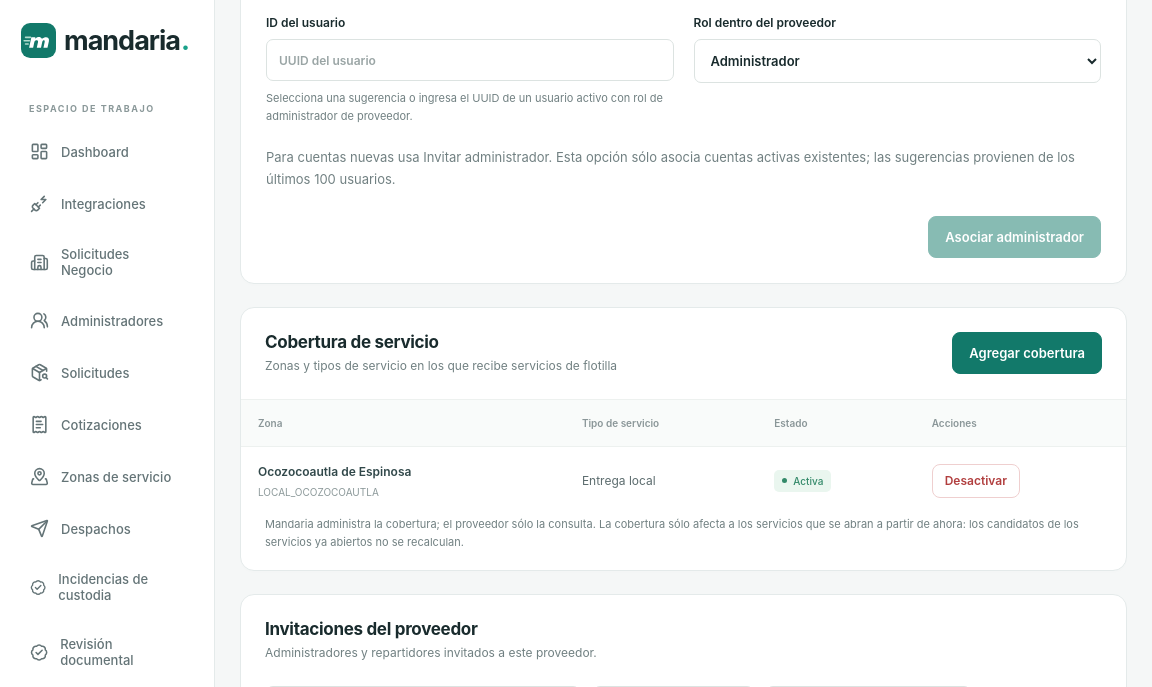
Test case: create, deactivate and reactivate › creates with the flat write shape and refetches from the backend
(page scrolled)
Click the button "Agregar cobertura": (1027, 353) [952,332,1102,374]
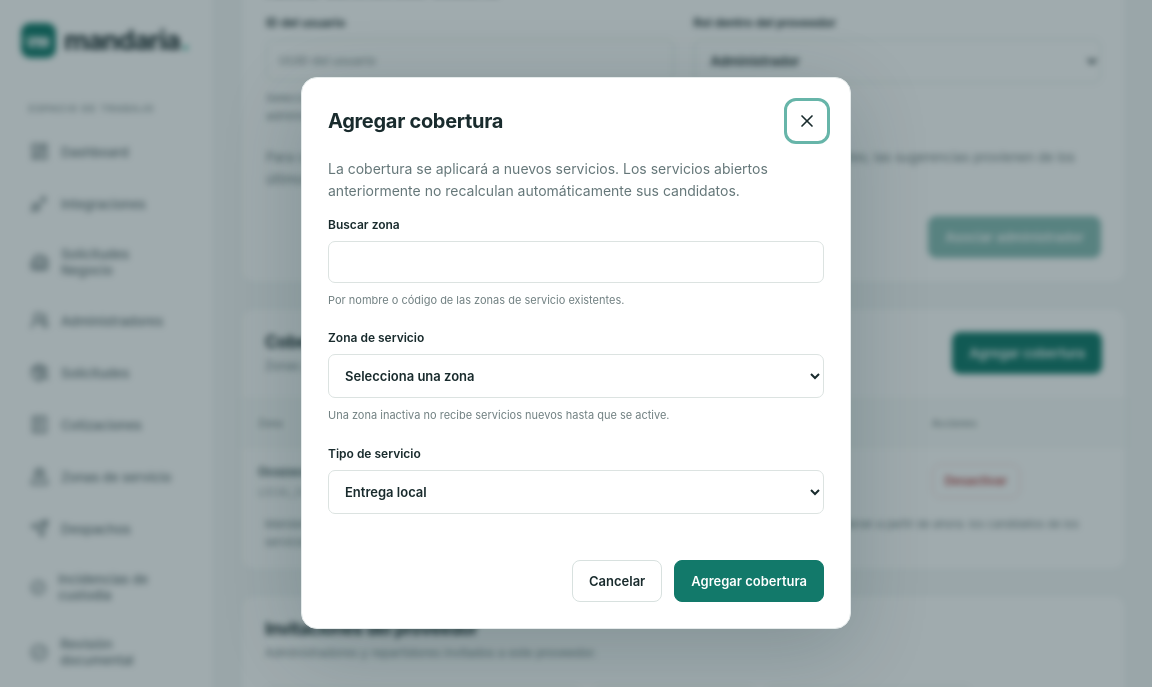
Select "Tuxtla Gutiérrez" in the dropdown labelled "Zona de servicio": (576, 376) [328,354,824,398]
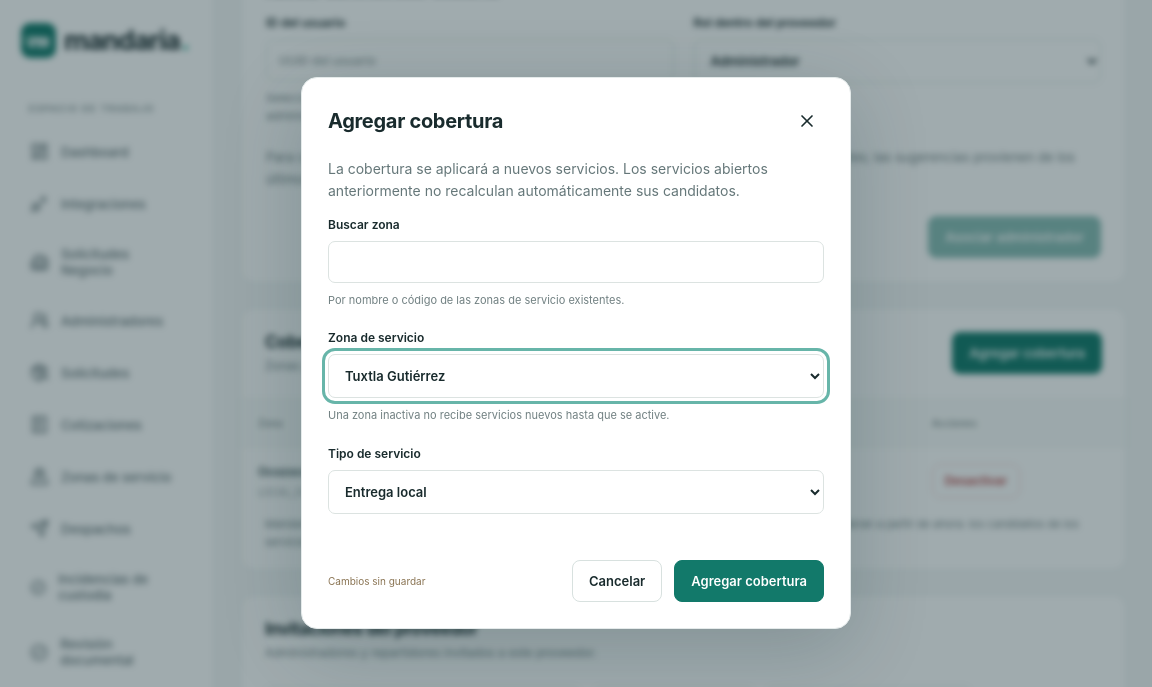
Click the button "Agregar cobertura": (749, 581) [674,560,824,602]
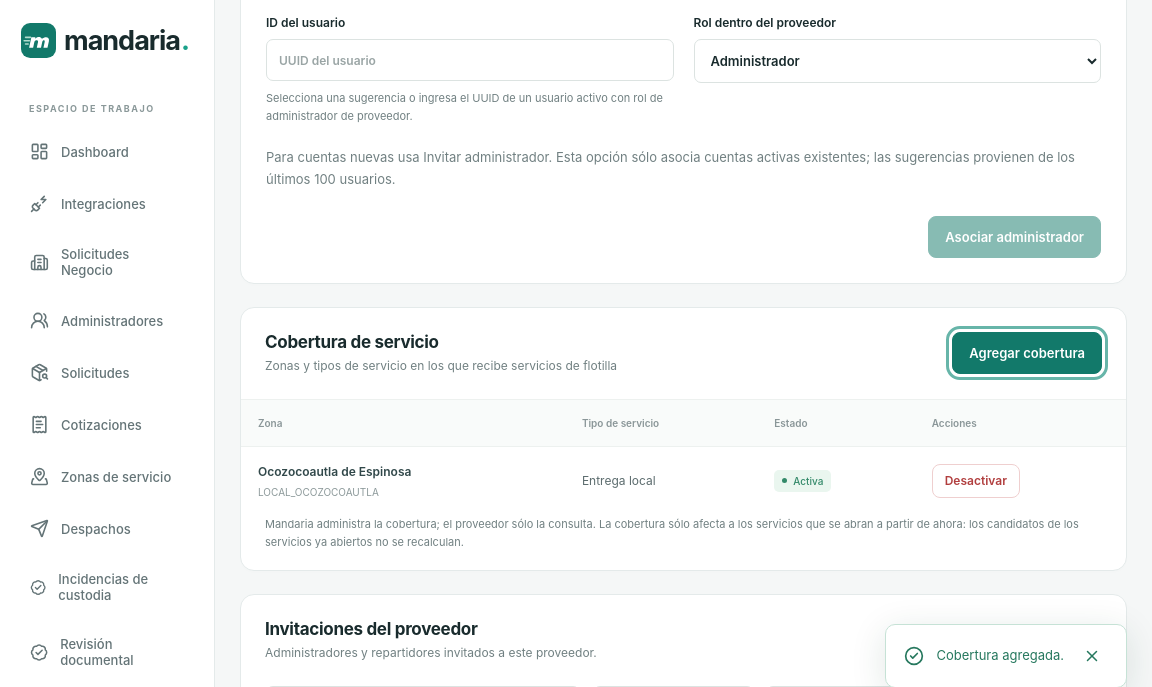
Expected: the dialog is gone
Expected: the text "Cobertura agregada." is shown, [936,646,1064,666]
